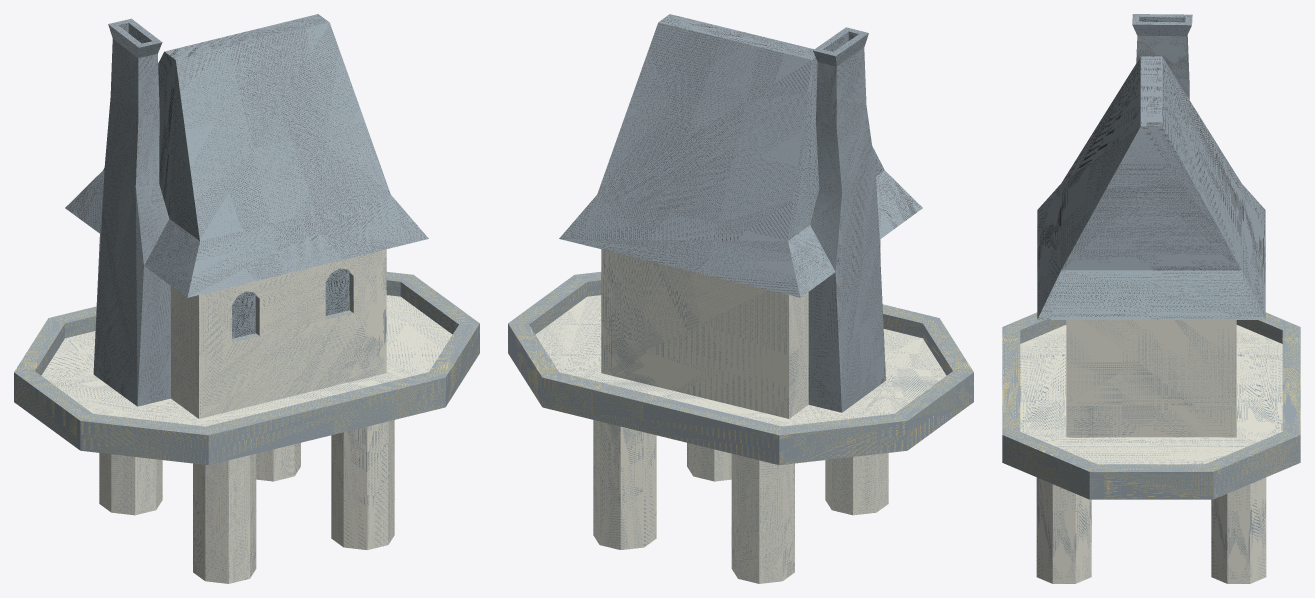
File: Castle_Room_02.fbx
3 renders of one model, left to right at view 1: azimuth 30°, elevation 25°; view 2: azimuth 150°, elevation 25°; view 3: azimuth 270°, elevation 25°, orthographic. The views are drawn at different scales.
Parts seen in each view (by area): view 1: Model; view 2: Model; view 3: Model.
Boxes of the visible parts, x1,y1,x2,y2 form: Model: [14, 14, 479, 583]; Model: [508, 14, 973, 583]; Model: [1002, 14, 1300, 583].
Bounding box in the file's own units: 1775 × 2156 × 1233.
